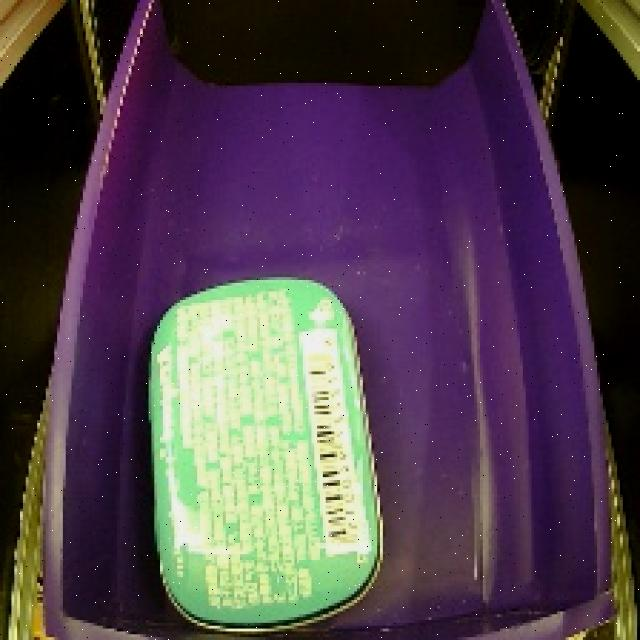metal: (136, 253, 402, 640)
